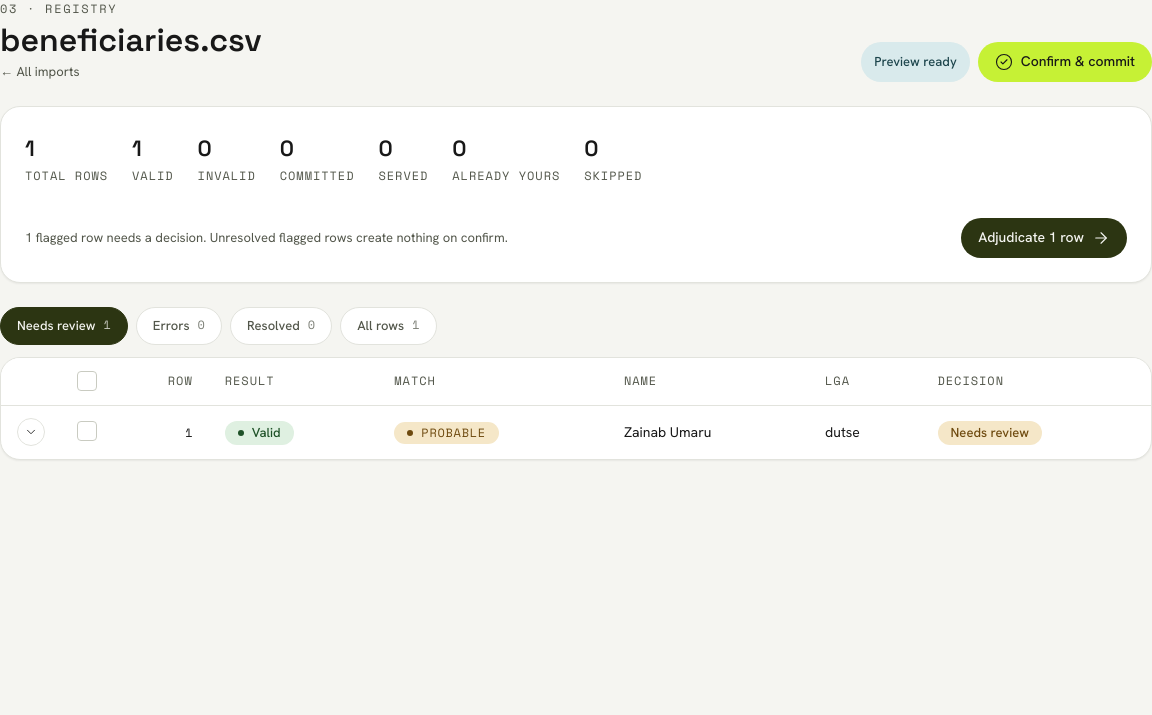
Test: ImportBatchPage — duplicate resolution › shows the same-person adjudication on probable matches (§5.9)
Click the button named "expand zainab umaru".
click(31, 432)  # box [17,418,45,446]
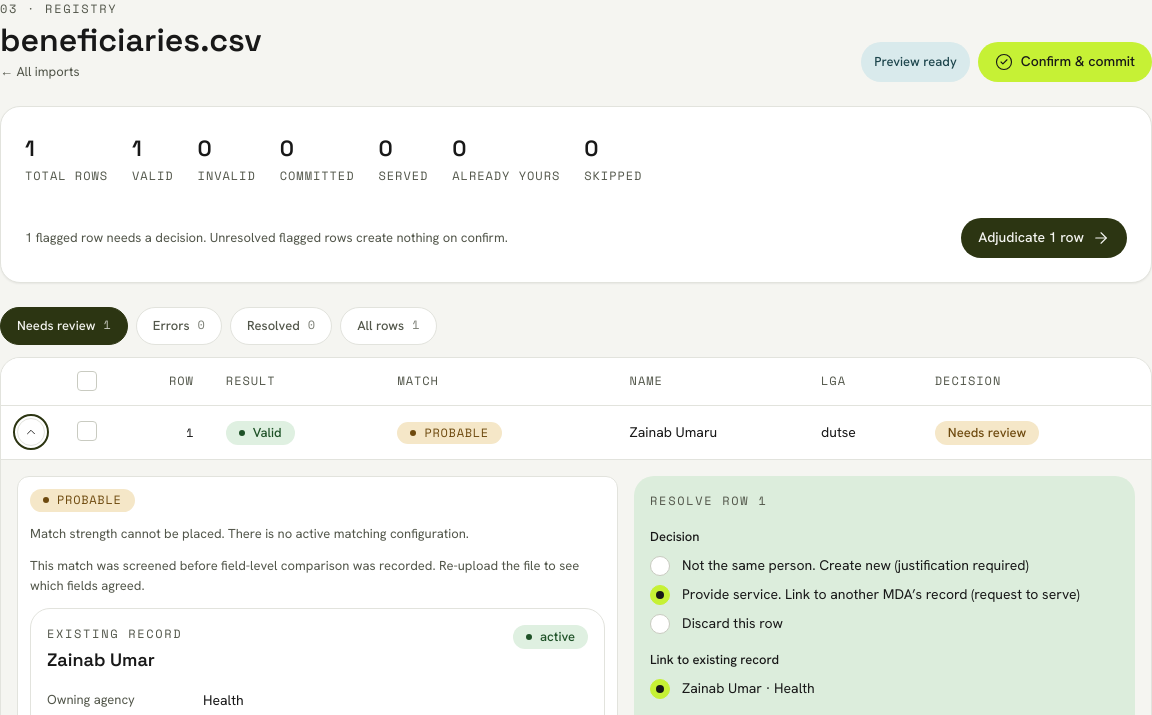
Result: the radio button labelled "Not the same person. Create new (justification required)" is shown at [650,556,1029,576]
Result: the radio button labelled "Provide service" is shown at [650,584,1119,605]
Result: the radio button labelled "Discard this row" is shown at [650,614,783,634]
